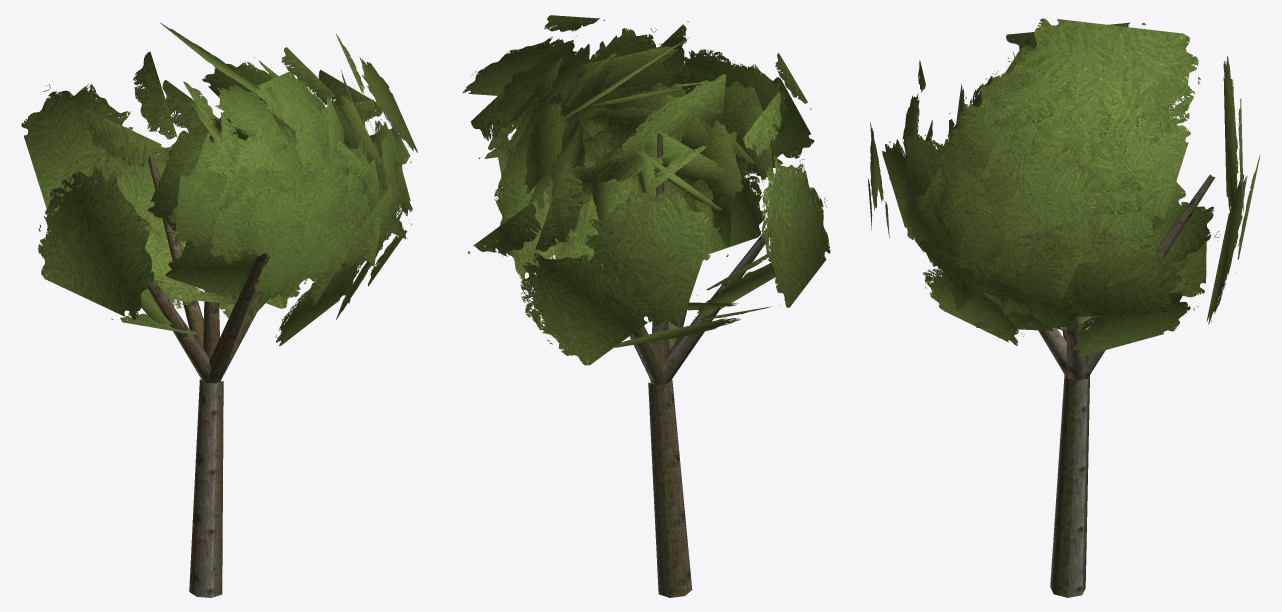
File: tree_fern.glb
3 views of the same model, side by side, from view 1: azimuth 30°, elevation 25°; view 2: azimuth 150°, elevation 25°; view 3: azimuth 270°, elevation 25° (orthographic). The views are drawn at different scales.
Visible parts, largest first — view 1: tree_fern_foliage, tree_fern_body; view 2: tree_fern_foliage, tree_fern_body; view 3: tree_fern_foliage, tree_fern_body.
Part boxes in pixels (box(x1,y1,x2,y2)): tree_fern_foliage: box(21, 22, 417, 346); tree_fern_body: box(143, 135, 266, 597); tree_fern_foliage: box(462, 15, 830, 365); tree_fern_body: box(596, 131, 769, 597); tree_fern_foliage: box(868, 18, 1260, 356); tree_fern_body: box(1038, 174, 1214, 597).
Size of the model in its own units: 0.2466 by 0.3756 by 0.2375.
2 materials, 2 textured.
